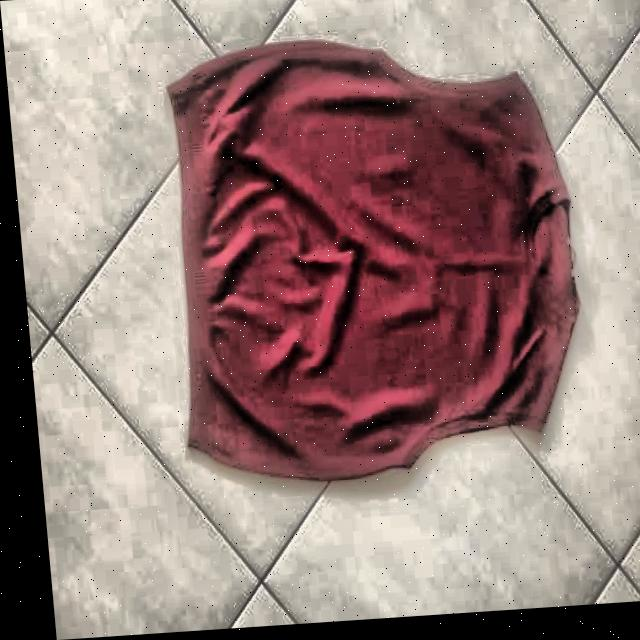clothes: (146, 23, 596, 501)
